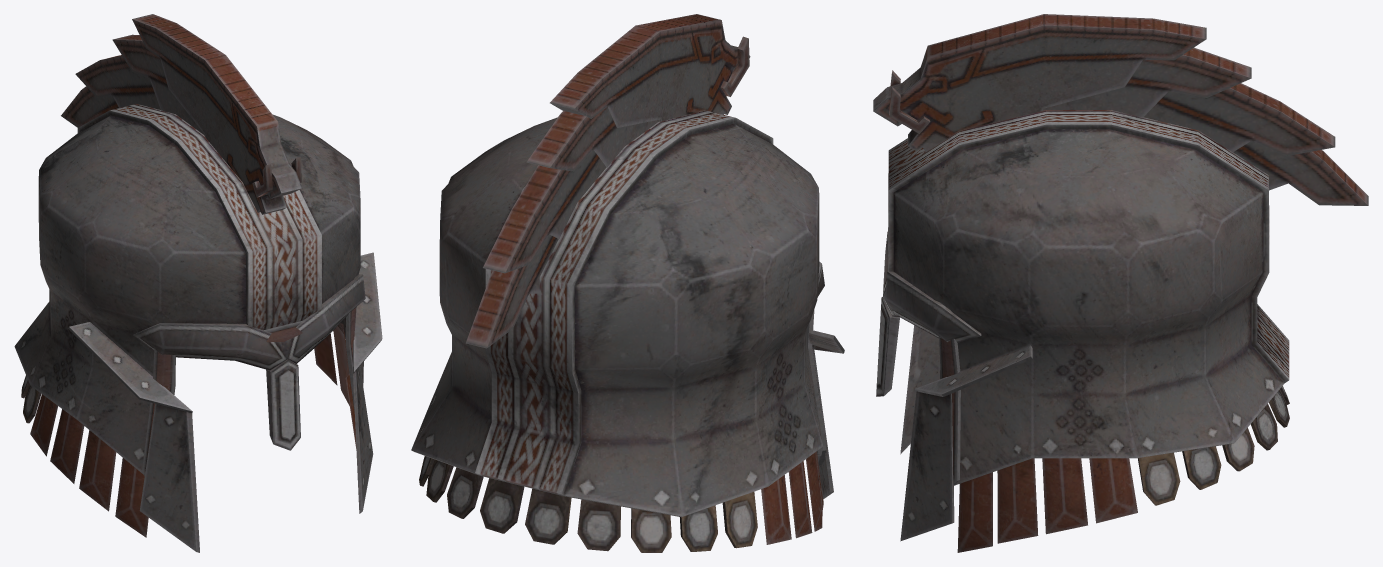
Rendered from sk_dwarf_iron_helmet_elite_d1.fbx.
3 renders of one model, left to right at view 1: azimuth 30°, elevation 25°; view 2: azimuth 150°, elevation 25°; view 3: azimuth 270°, elevation 25°, orthographic. The views are drawn at different scales.
Visible parts, largest first — view 1: sk_dwarf_iron_helmet_elite_d1; view 2: sk_dwarf_iron_helmet_elite_d1; view 3: sk_dwarf_iron_helmet_elite_d1.
Boxes of the visible parts, box(x1,y1,x2,y2) form: sk_dwarf_iron_helmet_elite_d1: box(14, 14, 382, 552); sk_dwarf_iron_helmet_elite_d1: box(411, 14, 844, 552); sk_dwarf_iron_helmet_elite_d1: box(873, 14, 1368, 552).
Size of the model in its own units: 0.2896 by 0.3655 by 0.3892.
1 material, 1 textured.
